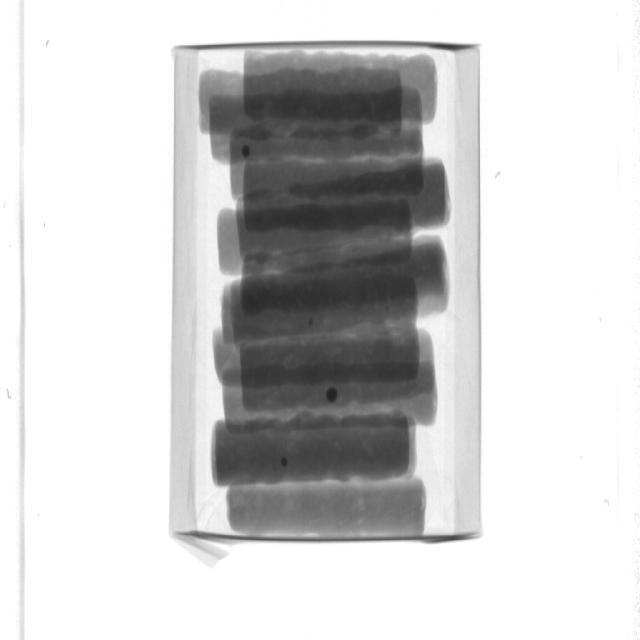ym: (327, 388, 338, 403), (308, 317, 315, 329), (245, 146, 252, 157), (282, 458, 289, 466)
